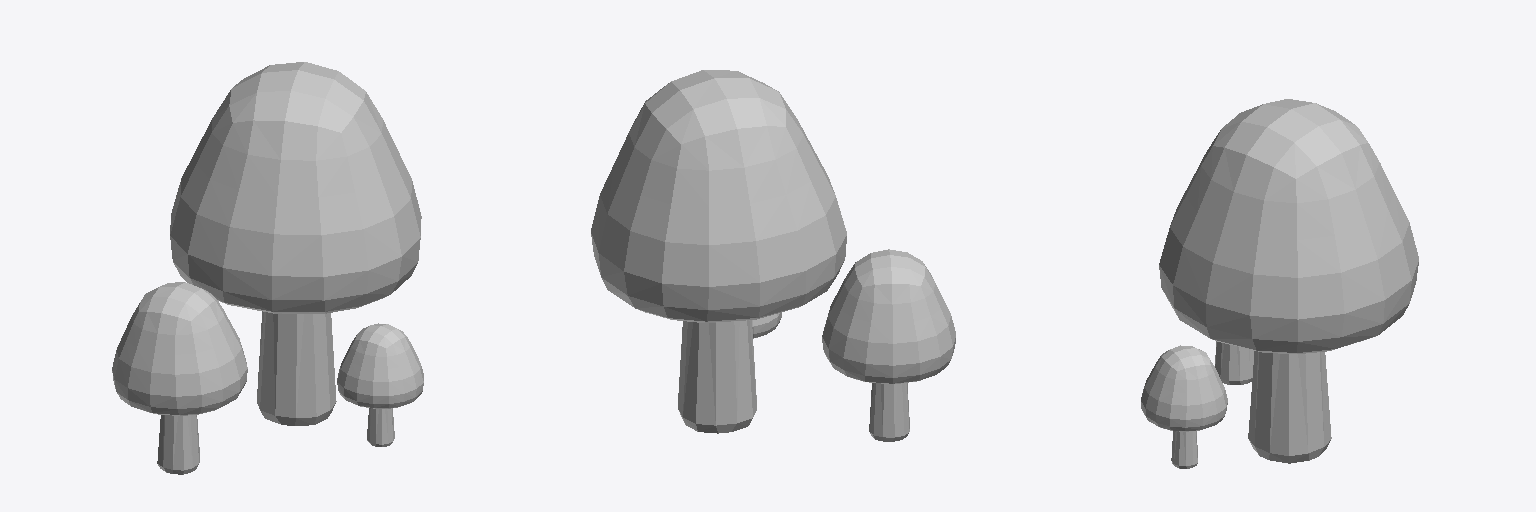
The model's file is mushroom_2.obj.
3 renders of one model, left to right at view 1: azimuth 30°, elevation 25°; view 2: azimuth 150°, elevation 25°; view 3: azimuth 270°, elevation 25°, orthographic.
Parts seen in each view (by area): view 1: 6.001_Cube.004; view 2: 6.001_Cube.004; view 3: 6.001_Cube.004.
Boxes of the visible parts, box(x1,y1,x2,y2) form: 6.001_Cube.004: box(112, 62, 423, 474); 6.001_Cube.004: box(591, 70, 955, 441); 6.001_Cube.004: box(1141, 99, 1418, 468).
Bounding box in the file's own units: 1.33 × 1.38 × 1.02.